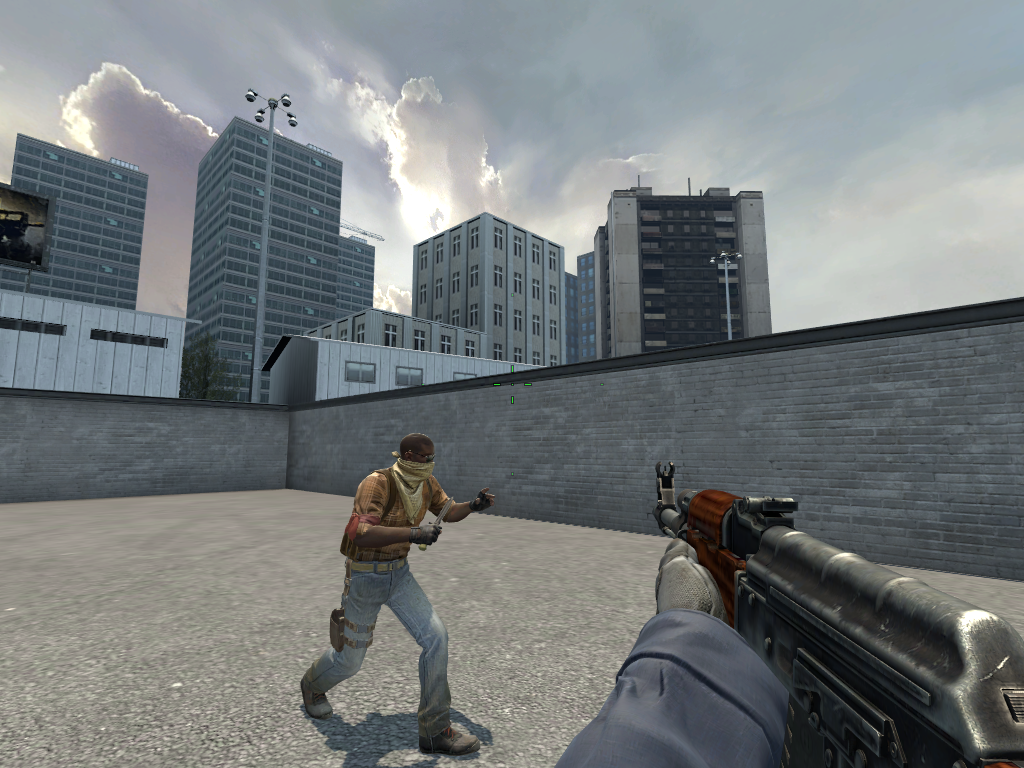tr head: (388, 430, 439, 484)
